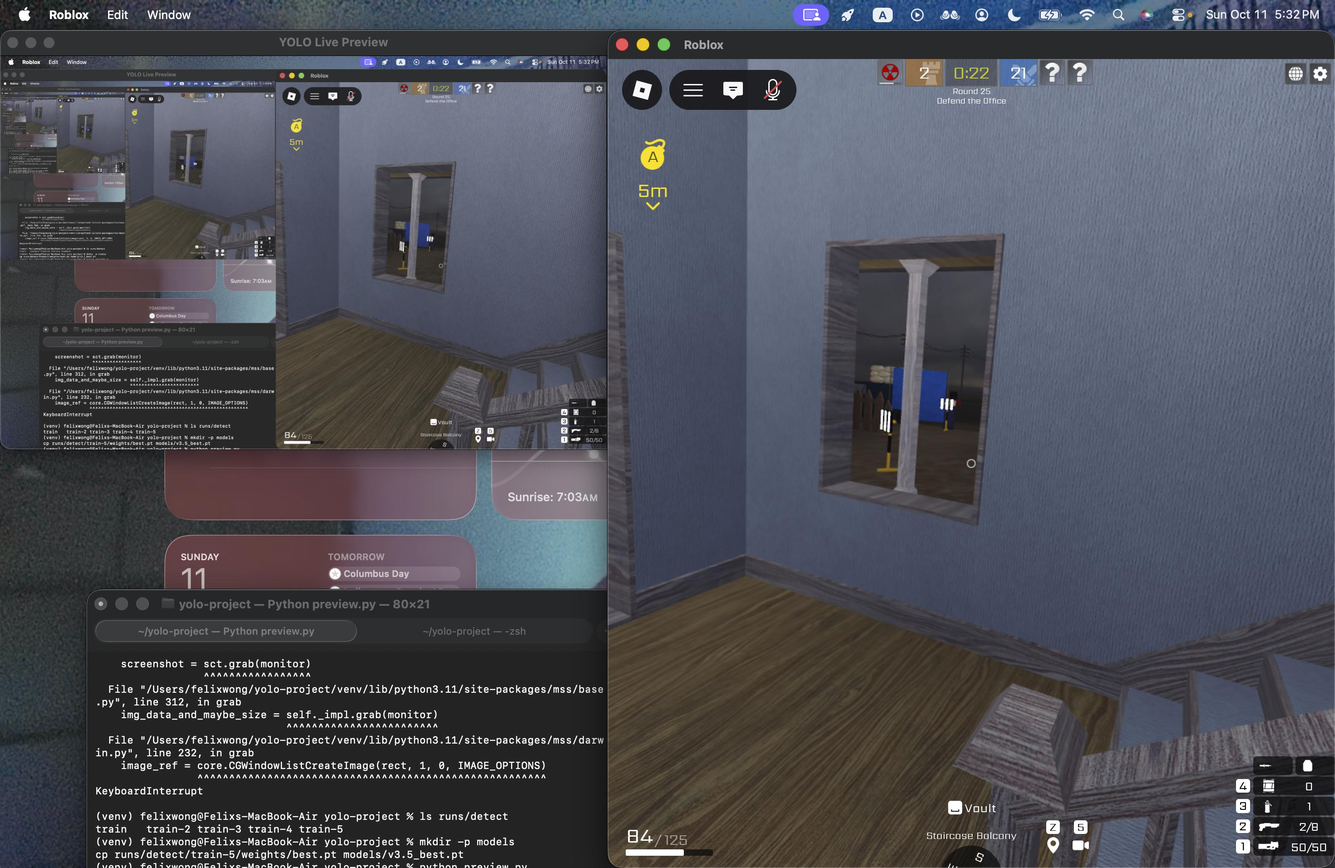enemy: (943, 390, 963, 432)
